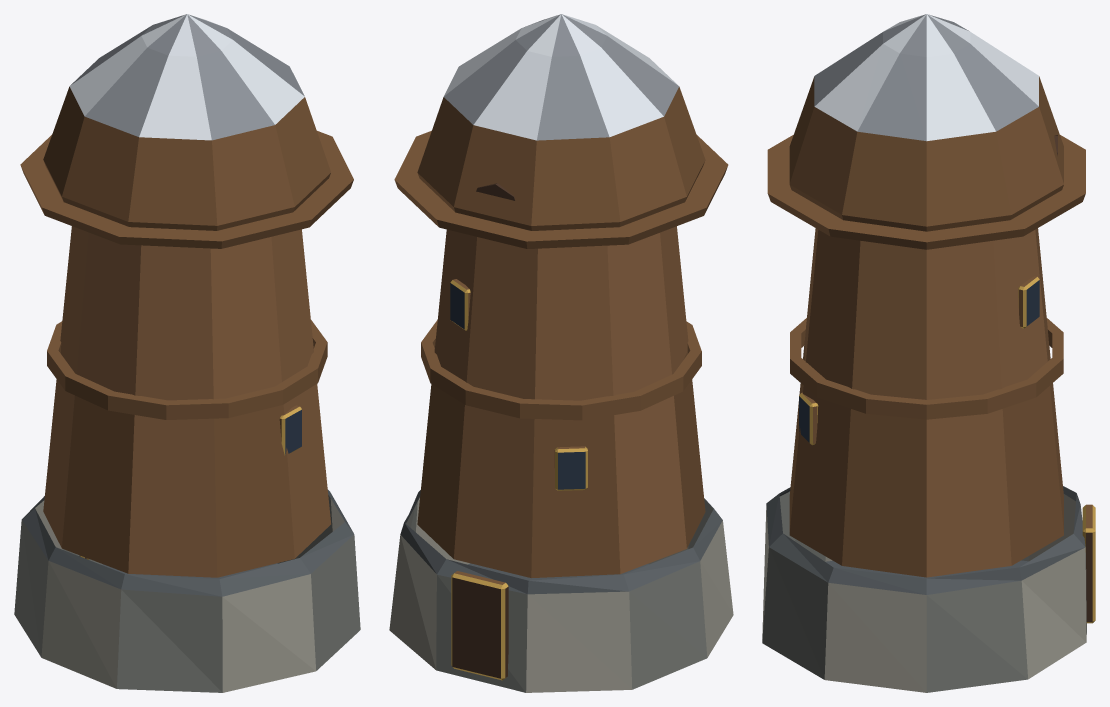
The model's file is Windmill.obj.
The picture shows the model from 3 angles, left to right: view 1: azimuth 30°, elevation 25°; view 2: azimuth 150°, elevation 25°; view 3: azimuth 270°, elevation 25°; orthographic projection.
Size of the model in its own units: 10.34 by 20.4 by 10.17.
